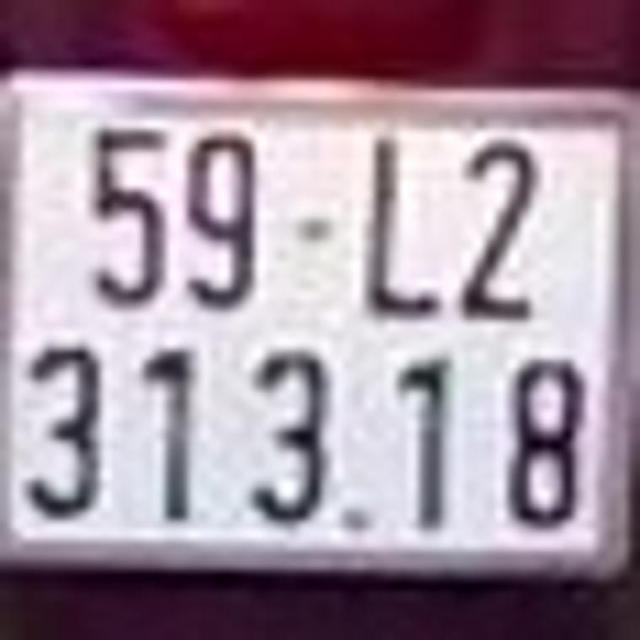1: (138, 345, 201, 520), (401, 354, 453, 536)
2: (466, 138, 540, 327)
3: (250, 342, 322, 524), (28, 344, 100, 521)
5: (91, 122, 166, 309)
8: (507, 350, 581, 534)
9: (188, 132, 262, 306)
L: (366, 132, 444, 319)
